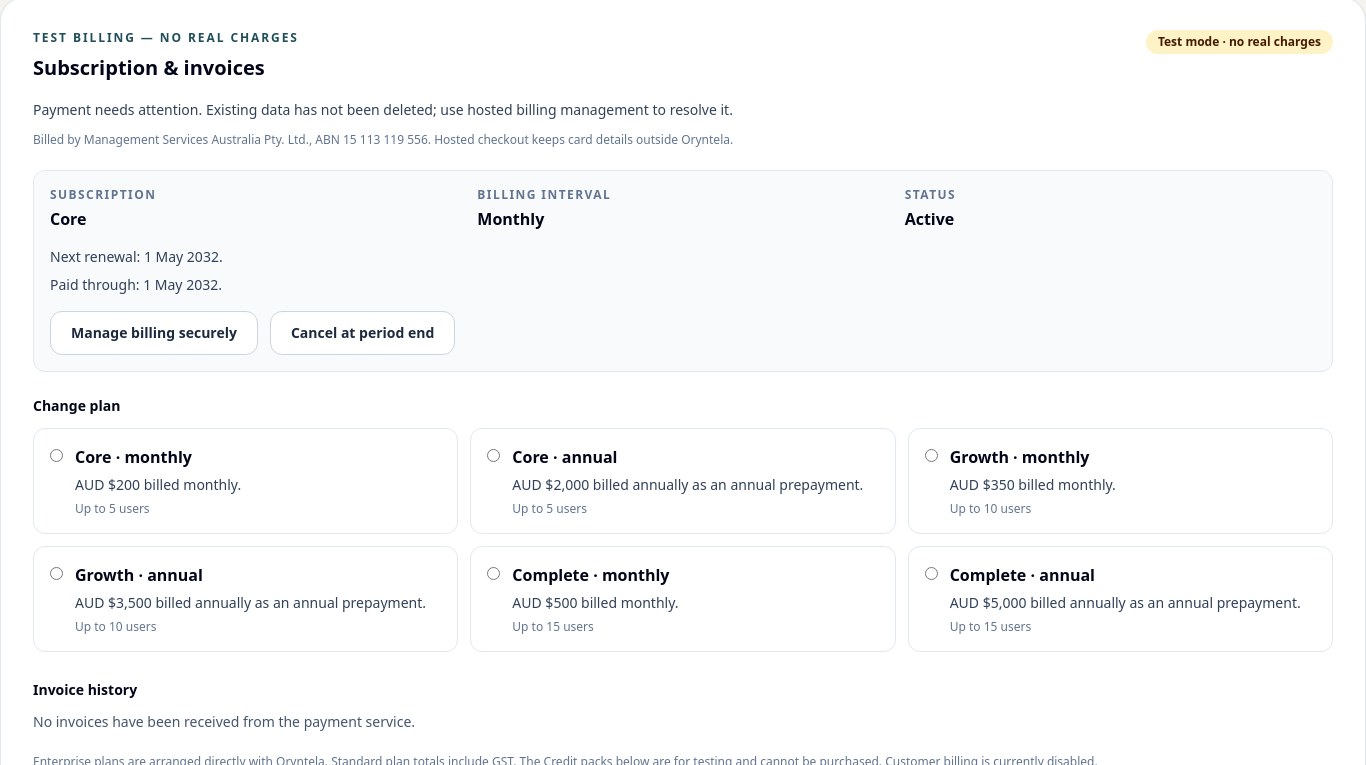
Test: BillingSubscriptionSettings › distinguishes immediate upgrades from renewal changes
Expected: the text "Core" is shown, [50,208,86,230]
Click the radio button labelled "Growth · monthly AUD $350 billed monthly. Up to 10 users" at (931, 456), box [925,449,938,462]
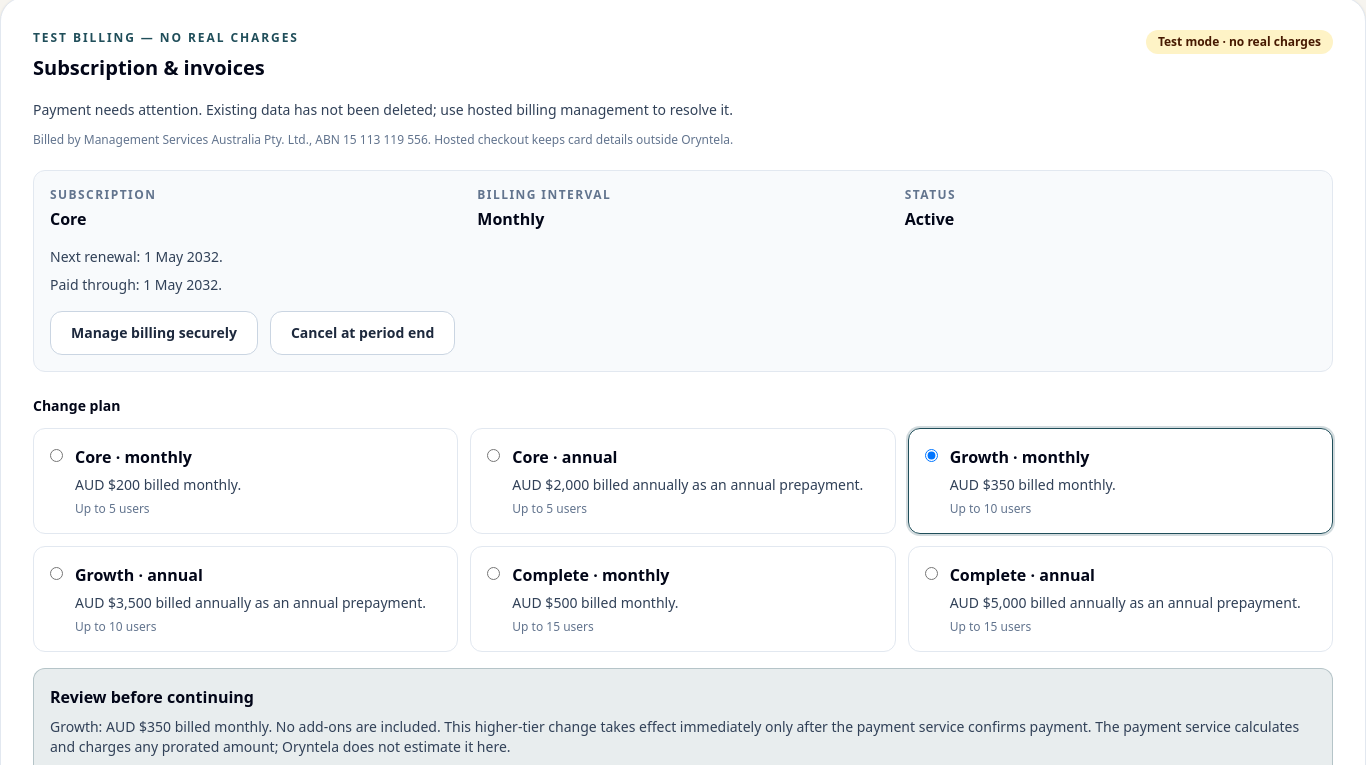
Expected: the text "payment service calculates and charges any prorated amount" is shown, [50,717,1299,756]
Click the radio button labelled "Core · annual" at (494, 456), box [487,449,500,462]
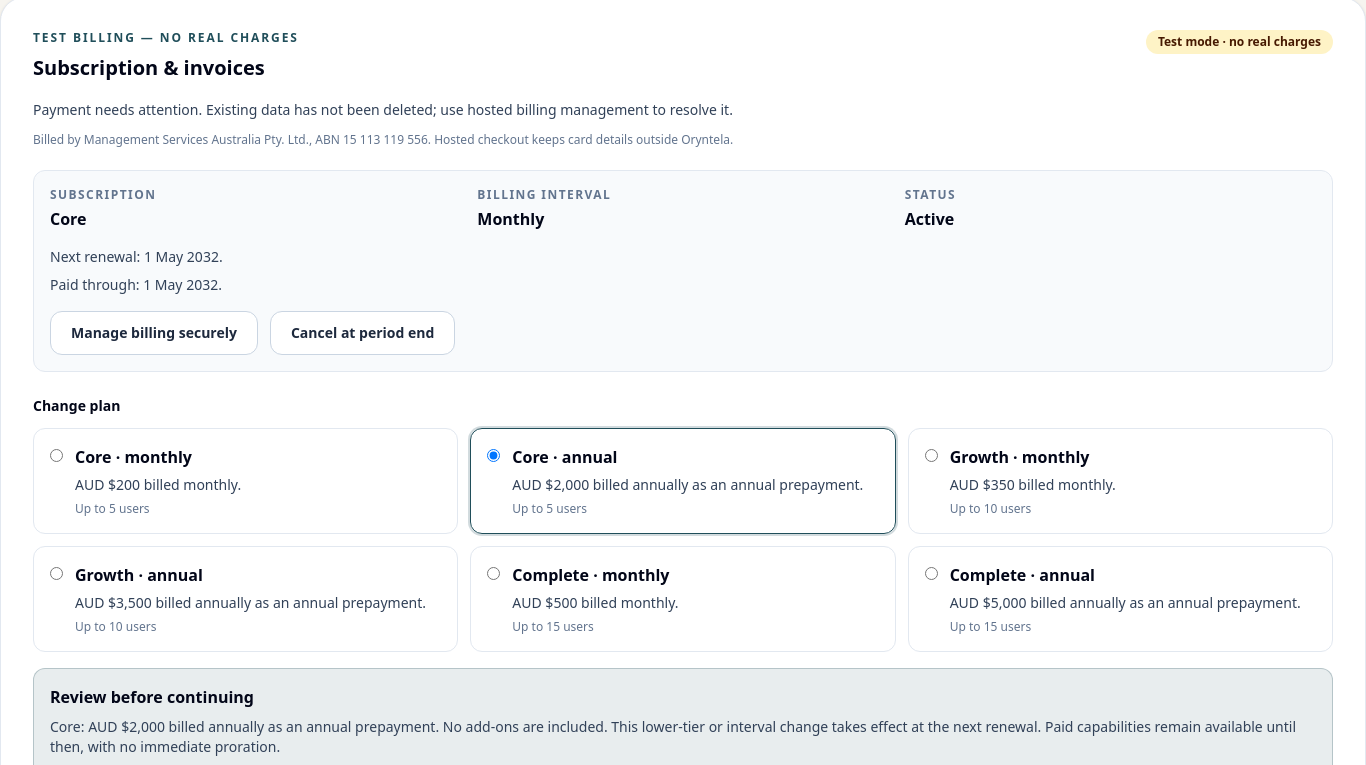
Expected: the text "no immediate proration" is shown, [50,717,1296,756]
Click the radio button labelled "Core · monthly AUD $200 billed monthly. Up to 5 users" at (56, 456), box [50,449,63,462]
(page scrolled)
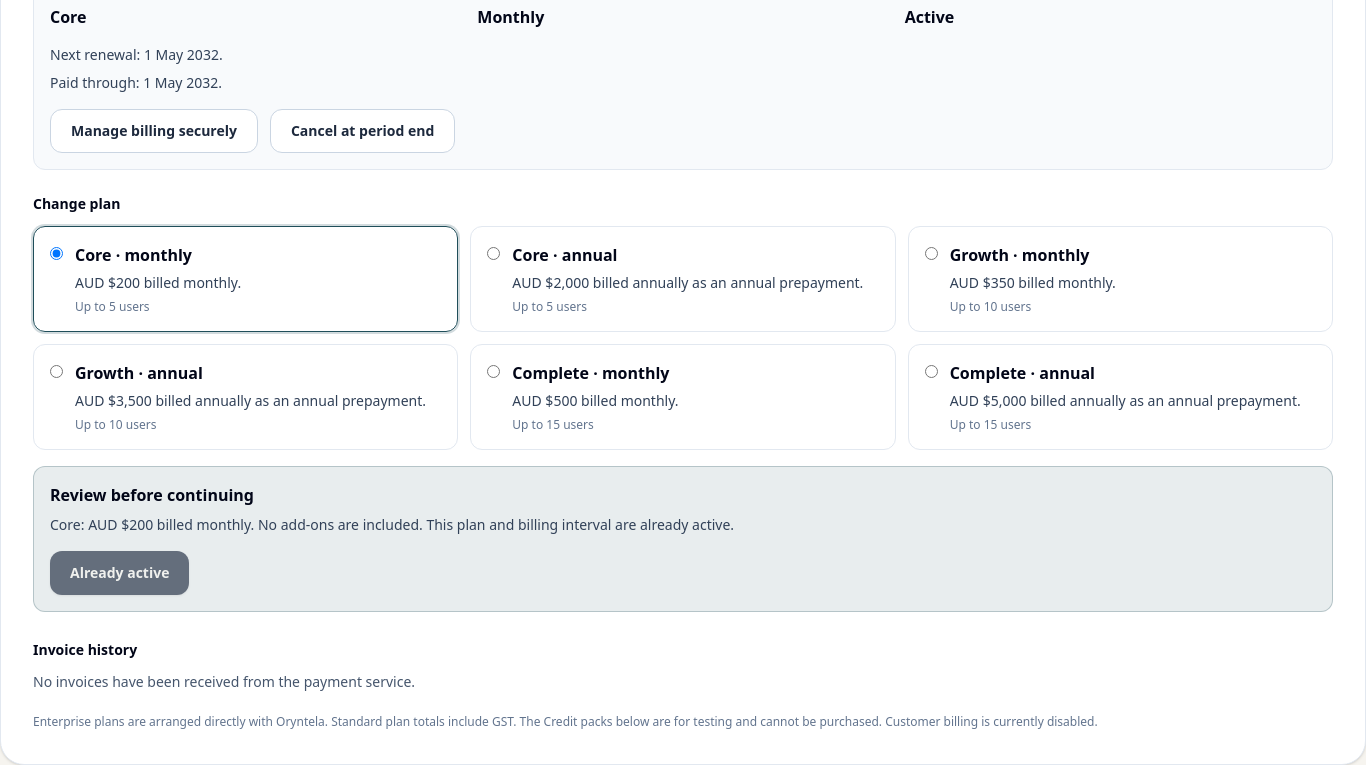
Expected: the button "Already active" is disabled, [50,551,190,595]
